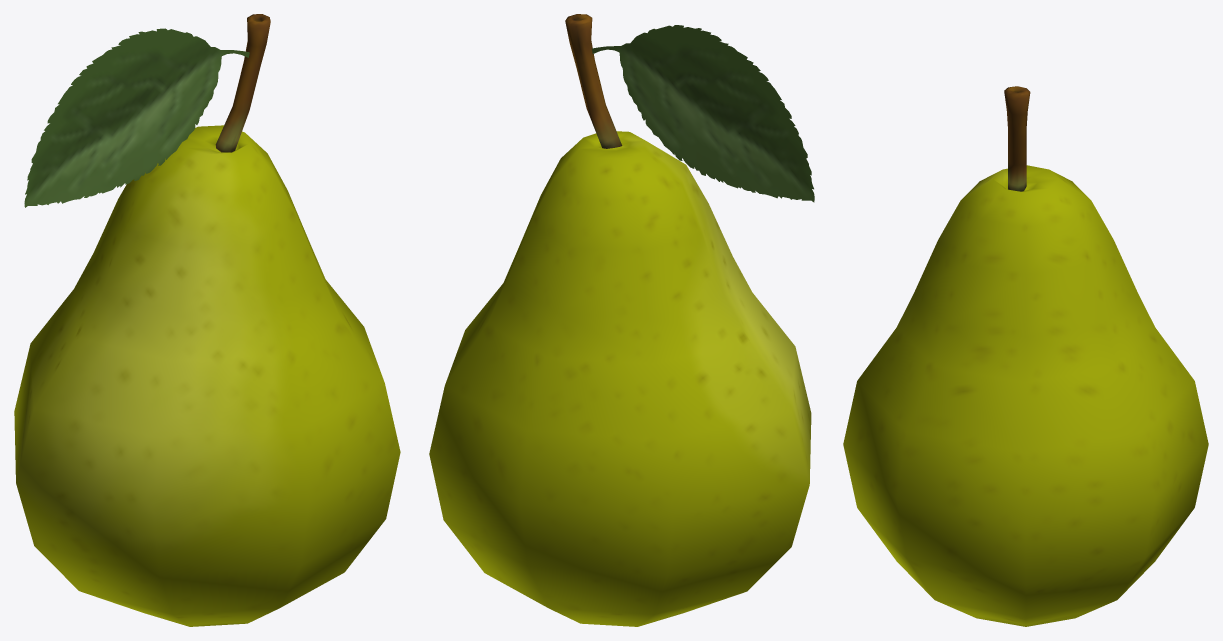
The model's file is pear.glb.
The picture shows the model from 3 angles, left to right: view 1: azimuth 30°, elevation 25°; view 2: azimuth 150°, elevation 25°; view 3: azimuth 270°, elevation 25°; orthographic projection. The views are drawn at different scales.
Parts seen in each view (by area): view 1: pear.001; view 2: pear.001; view 3: pear.001.
Boxes of the visible parts, <box> form: pear.001: <box>14,14,400,626</box>; pear.001: <box>429,14,814,626</box>; pear.001: <box>843,86,1208,626</box>.
Size of the model in its own units: 0.2961 by 0.4543 by 0.2768.
1 material, 1 textured.
